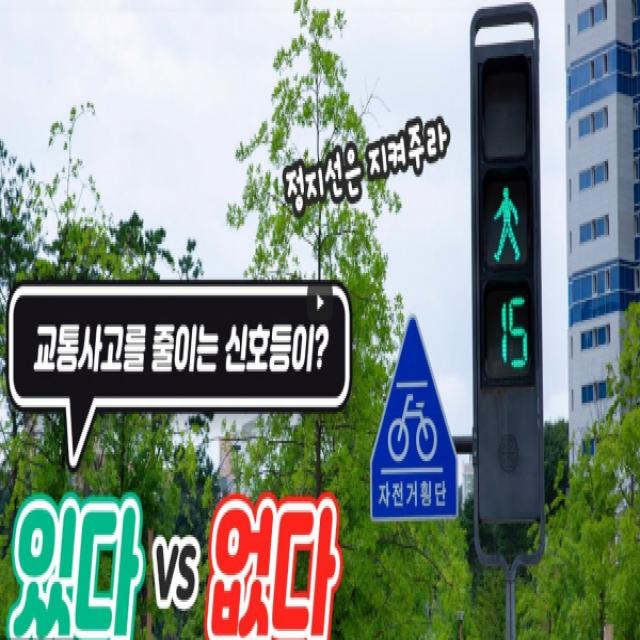Go: (464, 158, 542, 286)
